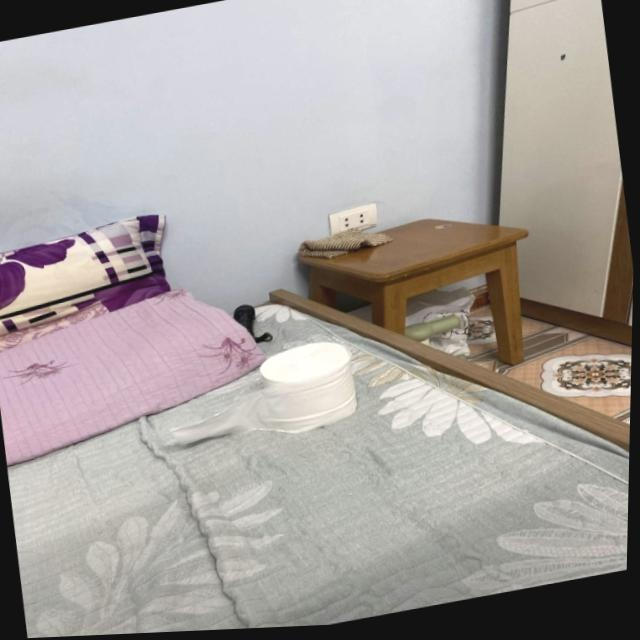outlet: (326, 202, 380, 237)
